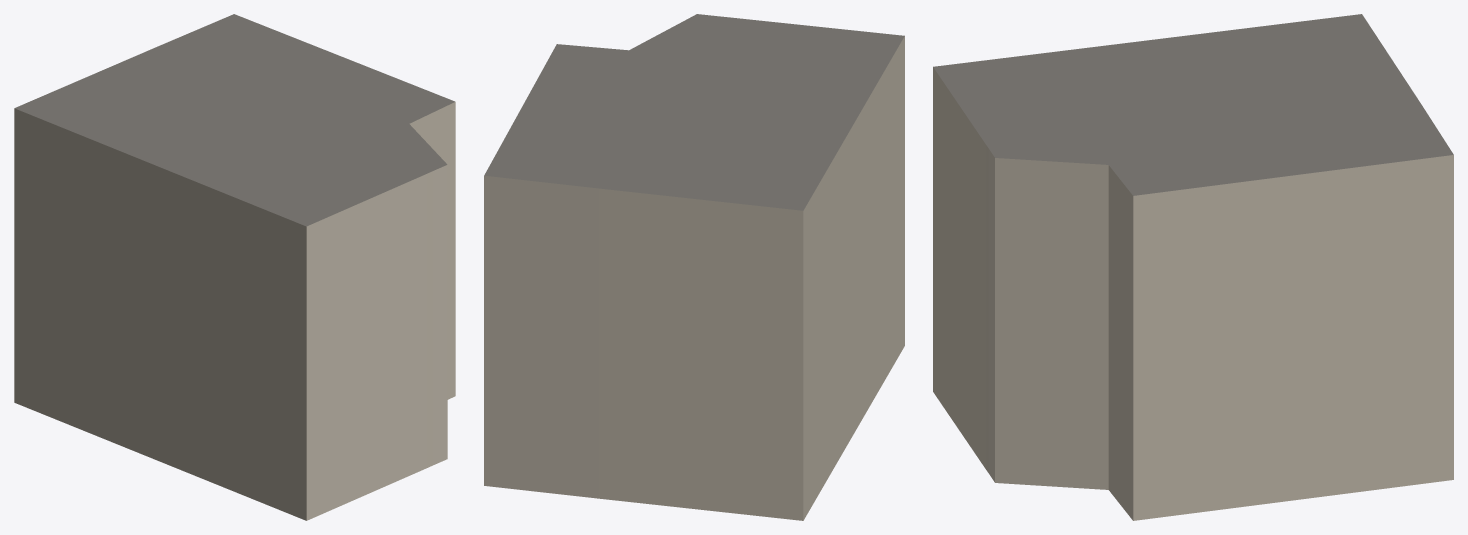
3 renders of one model, left to right at view 1: azimuth 30°, elevation 25°; view 2: azimuth 150°, elevation 25°; view 3: azimuth 270°, elevation 25°, orthographic. The views are drawn at different scales.
Parts seen in each view (by area): view 1: HP-w446934744; view 2: HP-w446934744; view 3: HP-w446934744.
Part boxes in pixels (bbox=[...]): HP-w446934744: bbox=[14, 14, 455, 520]; HP-w446934744: bbox=[484, 14, 904, 520]; HP-w446934744: bbox=[933, 14, 1453, 520].
Size of the model in its own units: 21.61 by 18 by 26.14.
